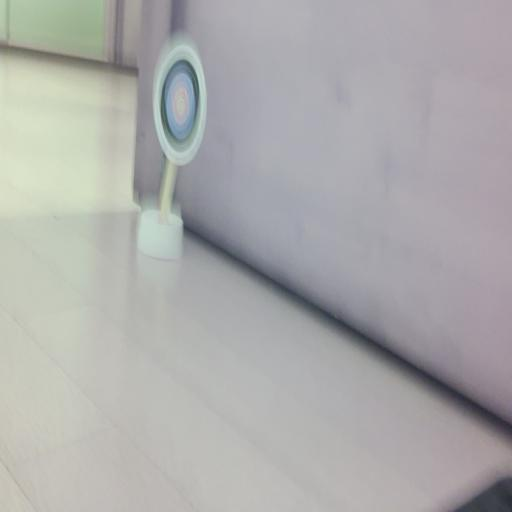target: (152, 33, 206, 166)
